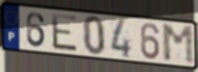0: (80, 14, 108, 57)
4: (109, 17, 134, 60)
6: (139, 22, 161, 61), (25, 11, 47, 49)
E: (50, 12, 79, 54)
M: (161, 23, 197, 66)
